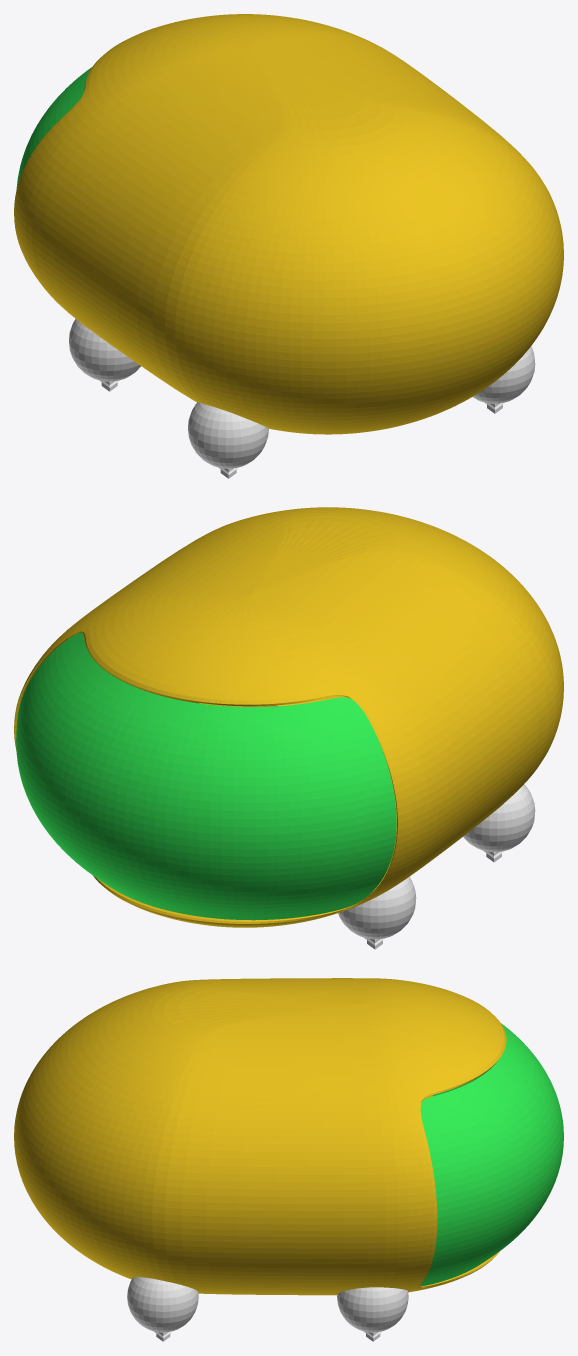
File: Smilik.fbx
3 renders of one model, top to bottom at view 1: azimuth 30°, elevation 25°; view 2: azimuth 150°, elevation 25°; view 3: azimuth 270°, elevation 25°, orthographic. The views are drawn at different scales.
Visible parts, largest first — view 1: Body, Turbine1.002, Turbine1.001, Turbine1.003, Display; view 2: Body, Display, Turbine1.001, Turbine1.002; view 3: Body, Display, Door, Turbine1.003, Turbine1.
Part boxes in pixels (bbox=[...]): Body: bbox=[14, 14, 563, 434]; Turbine1.002: bbox=[188, 402, 268, 478]; Turbine1.001: bbox=[69, 319, 140, 391]; Turbine1.003: bbox=[473, 346, 535, 413]; Display: bbox=[16, 67, 91, 188]; Body: bbox=[14, 507, 563, 927]; Display: bbox=[16, 632, 396, 920]; Turbine1.001: bbox=[338, 877, 416, 949]; Turbine1.002: bbox=[463, 784, 535, 862]; Body: bbox=[14, 978, 506, 1295]; Display: bbox=[420, 1023, 563, 1286]; Door: bbox=[206, 1127, 343, 1248]; Turbine1.003: bbox=[127, 1277, 198, 1341]; Turbine1: bbox=[337, 1287, 408, 1341].
Bounding box in the file's own units: 197 × 145 × 261.
